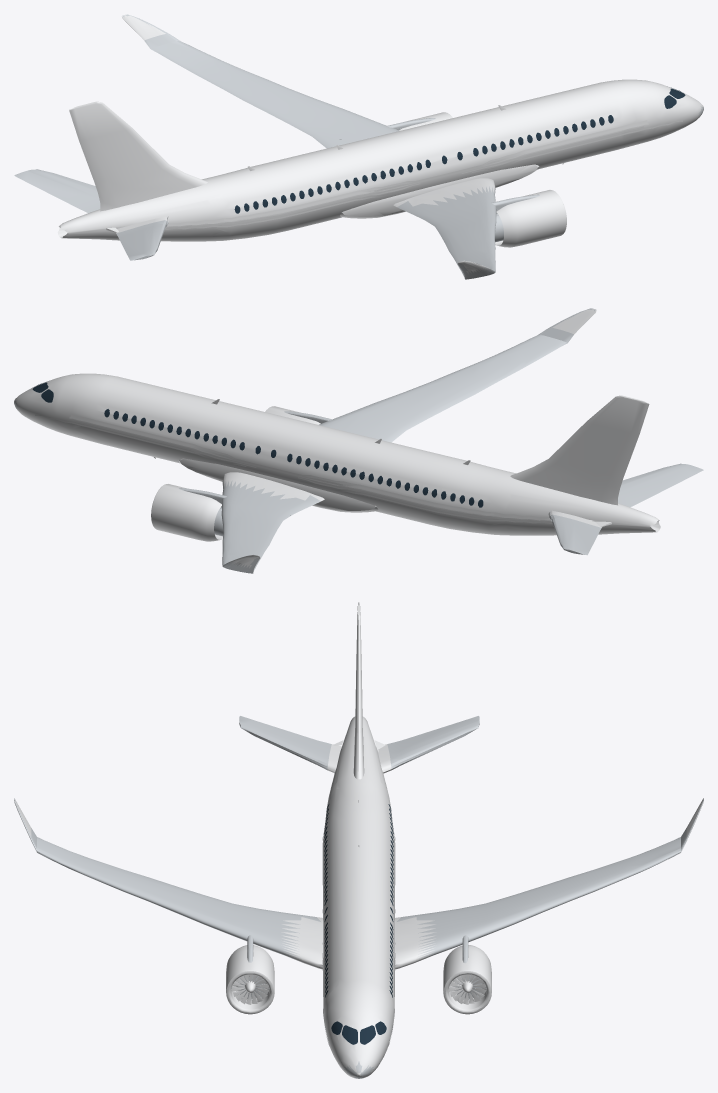
The model's file is bcs3-0.glb.
The picture shows the model from 3 angles, top to bottom: view 1: azimuth 30°, elevation 25°; view 2: azimuth 150°, elevation 25°; view 3: azimuth 270°, elevation 25°; orthographic projection. The views are drawn at different scales.
Visible parts, largest first — view 1: hull, wing, tail, engine, glass, band-cheatline, band-tailcone-trim, band-belly-trim, band-cheatline-trim; view 2: hull, wing, tail, engine, glass, band-cheatline, band-tailcone-trim, band-belly-trim, band-cheatline-trim; view 3: hull, wing, engine, tail, glass.
Part boxes in pixels (x1,y1,x2,y2): hull: (57, 79, 703, 241); wing: (14, 14, 703, 279); tail: (58, 15, 489, 274); engine: (399, 112, 566, 247); glass: (234, 87, 685, 213); band-cheatline: (106, 120, 647, 232); band-tailcone-trim: (224, 122, 648, 220); band-belly-trim: (165, 120, 682, 229); band-cheatline-trim: (165, 126, 643, 228); hull: (14, 373, 660, 535); wing: (14, 308, 703, 573); tail: (228, 309, 660, 568); engine: (151, 406, 320, 541); glass: (32, 382, 483, 507); band-cheatline: (70, 414, 611, 526); band-tailcone-trim: (69, 416, 494, 514); band-belly-trim: (35, 414, 552, 523); band-cheatline-trim: (74, 420, 551, 522); hull: (281, 721, 436, 1077); wing: (14, 716, 703, 1078); engine: (226, 945, 491, 1014); tail: (14, 602, 703, 840); glass: (324, 804, 393, 1044).
Size of the model in its own units: 38.7 by 11.07 by 35.1.
